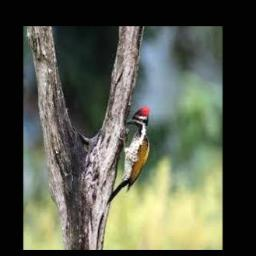Woodpecker: (107, 107, 149, 204)
